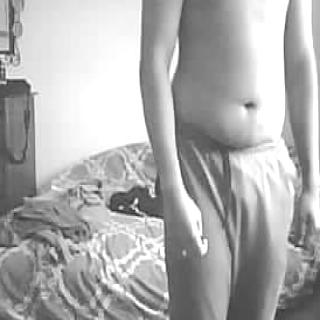Blue Sweatpants: (163, 116, 300, 320)
